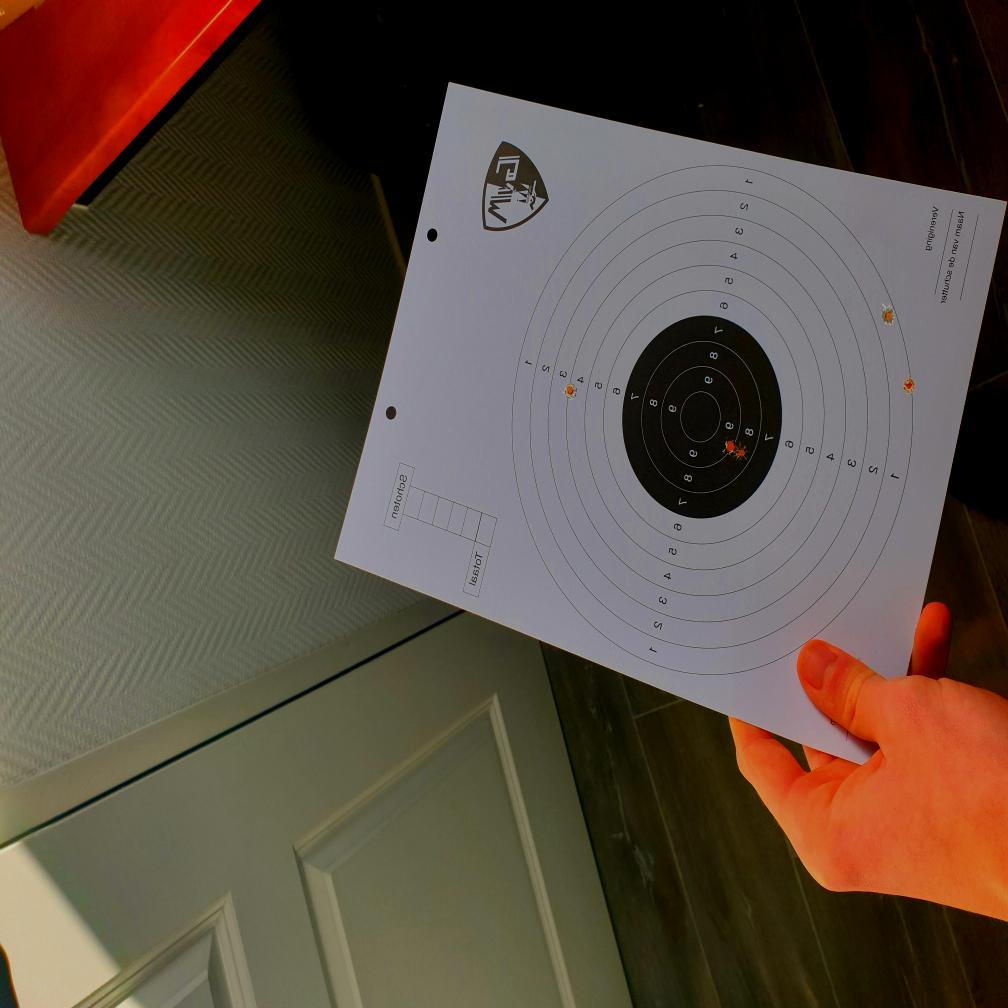1: (881, 303, 895, 325), (903, 376, 915, 396)
4: (563, 383, 578, 400)
8: (734, 442, 748, 462)
9: (722, 437, 736, 456)
Target: (507, 163, 916, 679)
black_contour: (621, 316, 782, 519)
